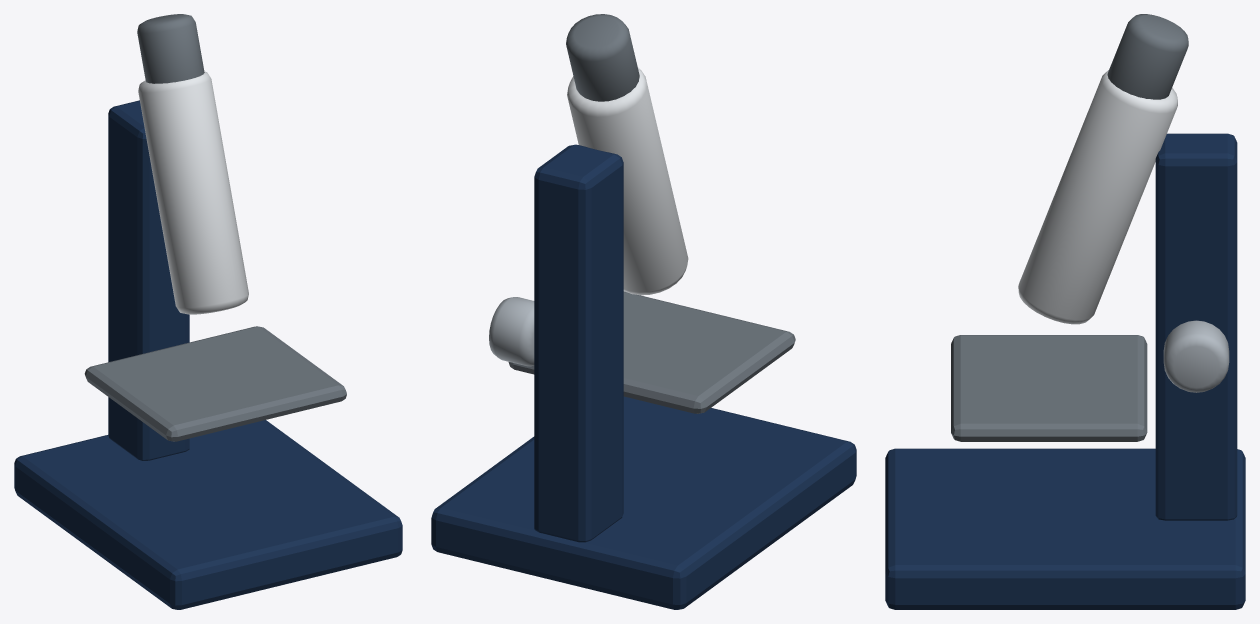
Rendered from microscope.glb.
3 views of the same model, side by side, from view 1: azimuth 30°, elevation 25°; view 2: azimuth 150°, elevation 25°; view 3: azimuth 270°, elevation 25° (orthographic). The views are drawn at different scales.
Visible parts, largest first — view 1: microscope; view 2: microscope; view 3: microscope.
Boxes of the visible parts, left/top/right/bottom form: microscope: left=14, top=14, right=402, bottom=609; microscope: left=431, top=14, right=856, bottom=609; microscope: left=885, top=14, right=1245, bottom=609.
Bounding box in the file's own units: 0.18 × 0.3583 × 0.22.
